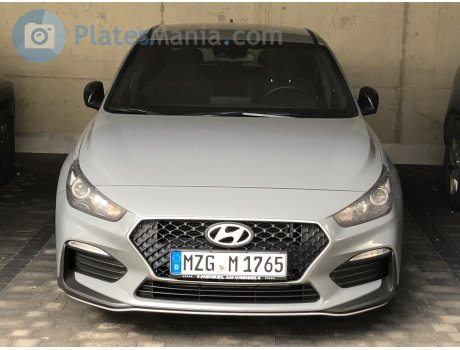License Plates: (182, 250, 288, 272)
